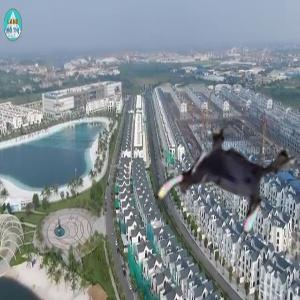drone: (163, 113, 293, 243)
